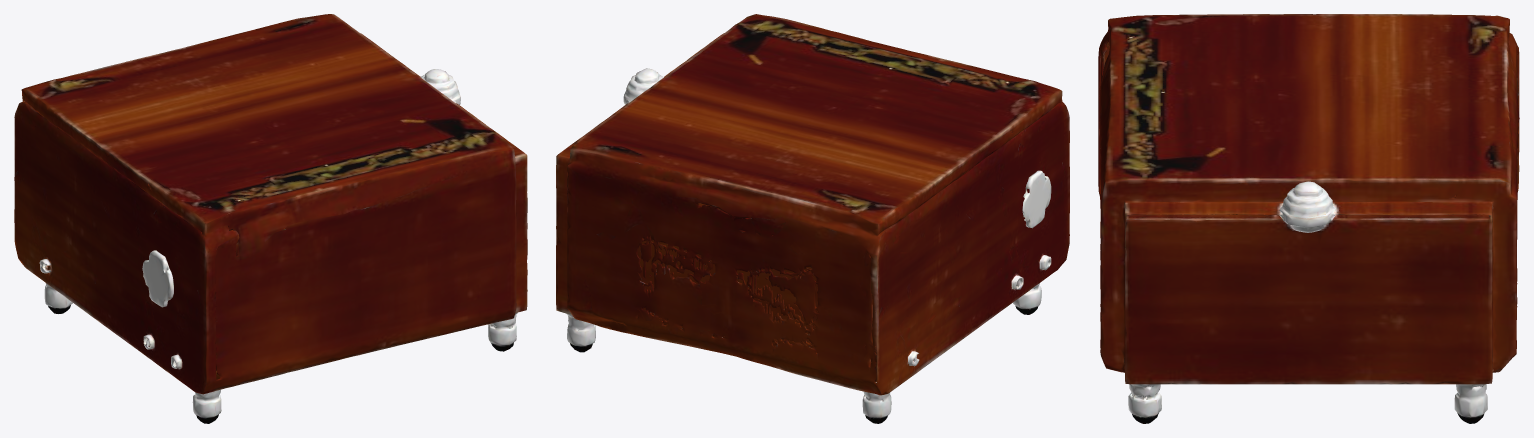
3 views of the same model, side by side, from view 1: azimuth 30°, elevation 25°; view 2: azimuth 150°, elevation 25°; view 3: azimuth 270°, elevation 25° (orthographic). The views are drawn at different scales.
Parts seen in each view (by area): view 1: geometry_0; view 2: geometry_0; view 3: geometry_0.
Part boxes in pixels (x1,y1,x2,y2): geometry_0: (14,14,527,423); geometry_0: (556,14,1069,423); geometry_0: (1098,14,1519,423).
Size of the model in its own units: 1 by 0.6002 by 0.9394.
Materials: 1 (1 with a texture image).
